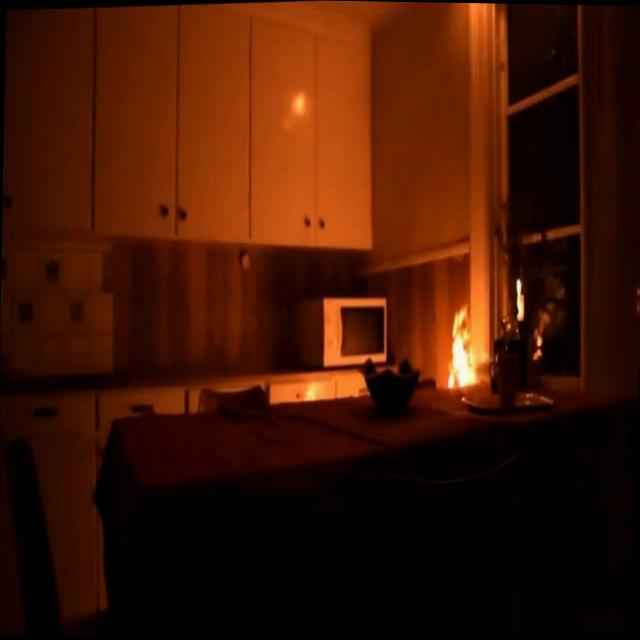fire: (421, 263, 494, 426)
